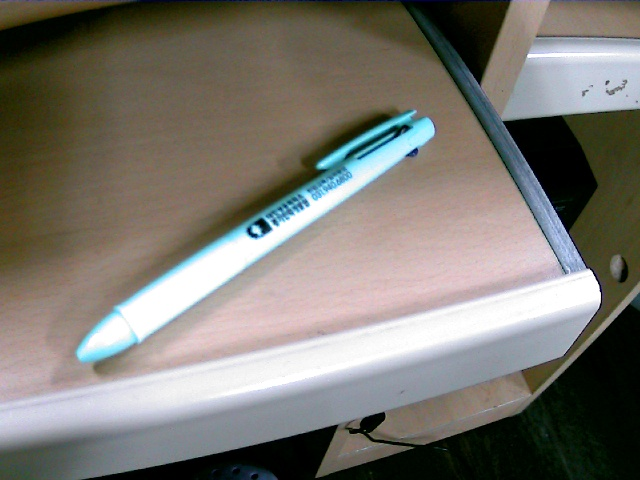pen: (80, 119, 460, 363)
